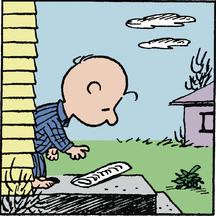charlie: (32, 51, 138, 190)
